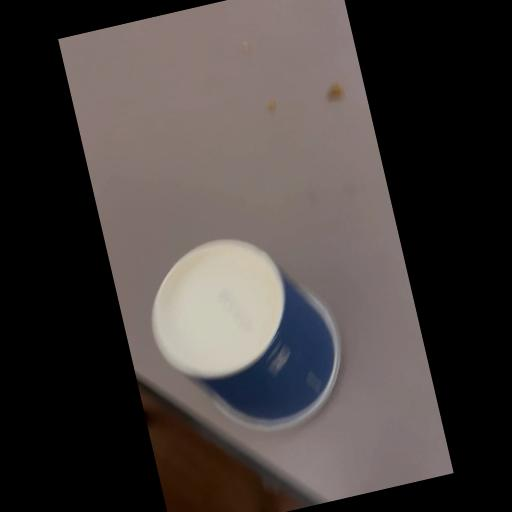lp_paper_cup: (126, 214, 356, 454)
